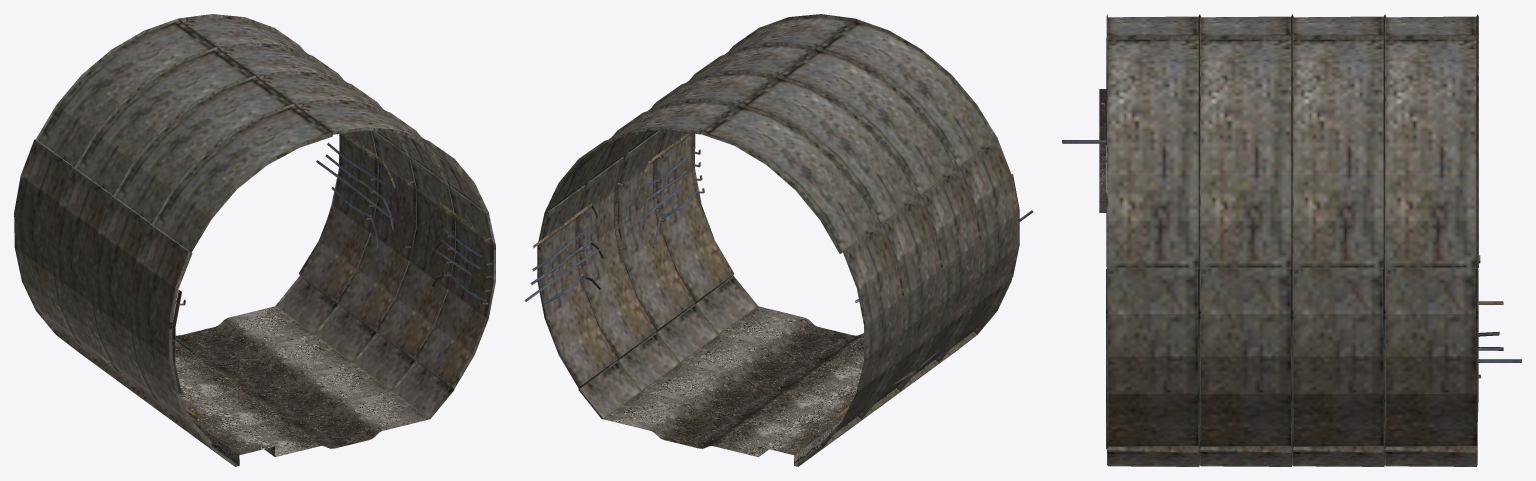
File: tunnel_beton_provoda.obj
The picture shows the model from 3 angles, left to right: view 1: azimuth 30°, elevation 25°; view 2: azimuth 150°, elevation 25°; view 3: azimuth 270°, elevation 25°; orthographic projection. The views are drawn at different scales.
Visible parts, largest first — view 1: concrete_tile_07, concrete_tile_008, concrete_tile_009, concrete_tile_010, floor_tunnel_pod, floor_tunnel_pod001, floor_tunnel_pod002, floor_tunnel_pod003, metal_corr_dsc, metal_trub_tonnel, metal_trub_tonnel003, metal_trub_tonnel004; view 2: concrete_tile_010, concrete_tile_009, concrete_tile_008, concrete_tile_07, floor_tunnel_pod003, floor_tunnel_pod002, floor_tunnel_pod001, floor_tunnel_pod, metal_trub_tonnel003, metal_trub_tonnel, metal_trub_tonnel004, metal_corr_dsc; view 3: concrete_tile_07, concrete_tile_010, concrete_tile_009, concrete_tile_008, metal_corr_dsc, metal_trub_tonnel003.
Boxes of the visible parts, bbox=[...] form: concrete_tile_07: bbox=[130, 99, 495, 466]; concrete_tile_008: bbox=[91, 70, 455, 436]; concrete_tile_009: bbox=[52, 42, 417, 408]; concrete_tile_010: bbox=[14, 14, 378, 381]; floor_tunnel_pod: bbox=[201, 391, 429, 466]; floor_tunnel_pod001: bbox=[179, 363, 390, 426]; floor_tunnel_pod002: bbox=[173, 334, 351, 397]; floor_tunnel_pod003: bbox=[172, 306, 313, 367]; metal_corr_dsc: bbox=[172, 216, 493, 394]; metal_trub_tonnel: bbox=[175, 133, 486, 420]; metal_trub_tonnel003: bbox=[316, 133, 371, 217]; metal_trub_tonnel004: bbox=[93, 146, 395, 370]; concrete_tile_010: bbox=[537, 99, 902, 466]; concrete_tile_009: bbox=[579, 70, 941, 437]; concrete_tile_008: bbox=[617, 42, 979, 408]; concrete_tile_07: bbox=[656, 14, 1018, 379]; floor_tunnel_pod003: bbox=[604, 391, 831, 466]; floor_tunnel_pod002: bbox=[643, 363, 855, 426]; floor_tunnel_pod001: bbox=[681, 334, 861, 397]; floor_tunnel_pod: bbox=[720, 306, 863, 369]; metal_trub_tonnel003: bbox=[524, 132, 863, 422]; metal_trub_tonnel: bbox=[640, 133, 1032, 221]; metal_trub_tonnel004: bbox=[563, 203, 914, 385]; metal_corr_dsc: bbox=[691, 133, 1019, 277]; concrete_tile_07: bbox=[1106, 14, 1201, 466]; concrete_tile_010: bbox=[1383, 14, 1478, 466]; concrete_tile_009: bbox=[1291, 14, 1386, 466]; concrete_tile_008: bbox=[1198, 14, 1293, 466]; metal_corr_dsc: bbox=[1099, 89, 1113, 274]; metal_trub_tonnel003: bbox=[1478, 255, 1521, 378].
Size of the model in its own units: 8.92 by 8.25 by 9.04.
Materials: 6 (6 with a texture image).
